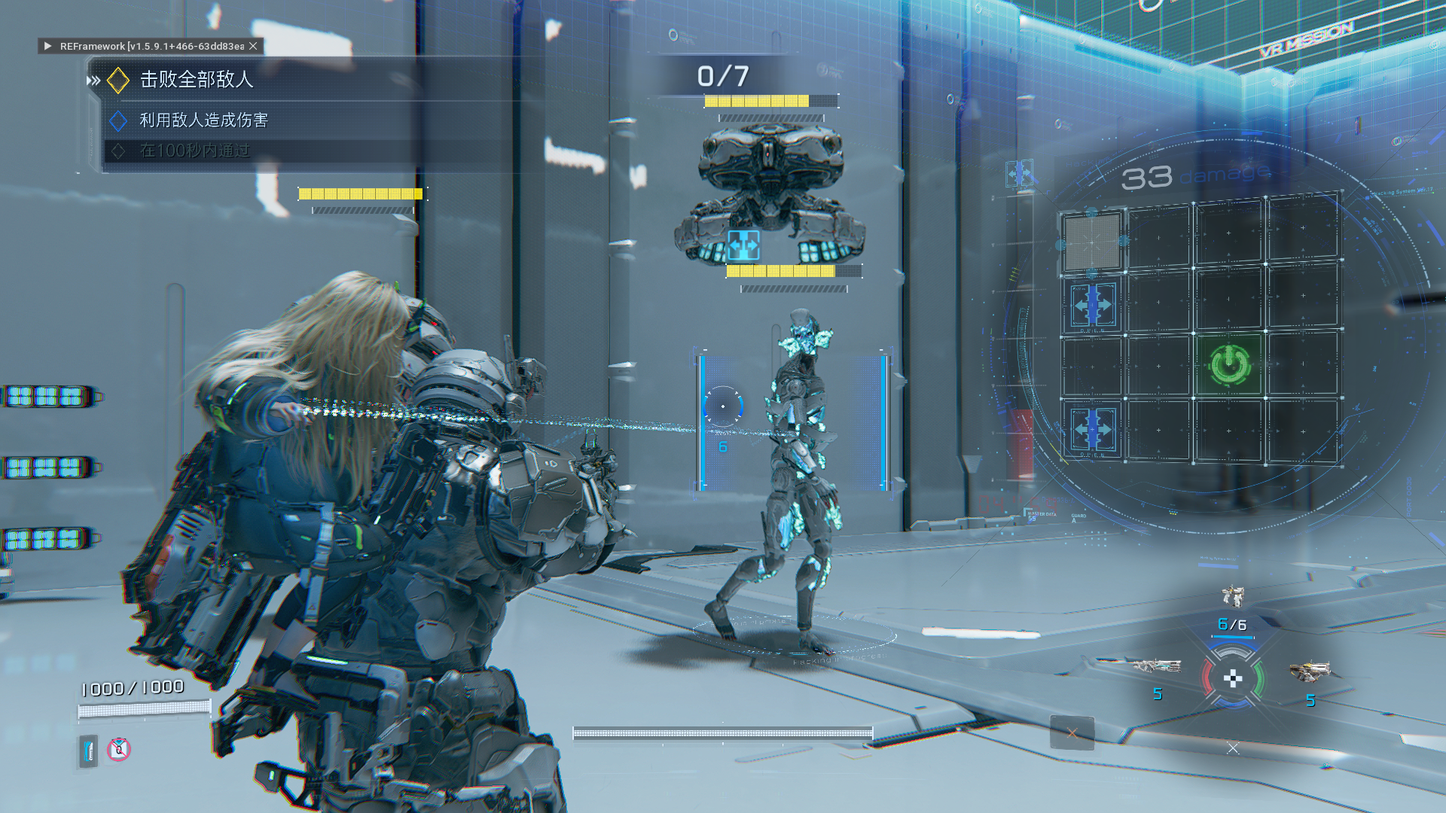puzzle_panel: (1057, 187, 1345, 473)
